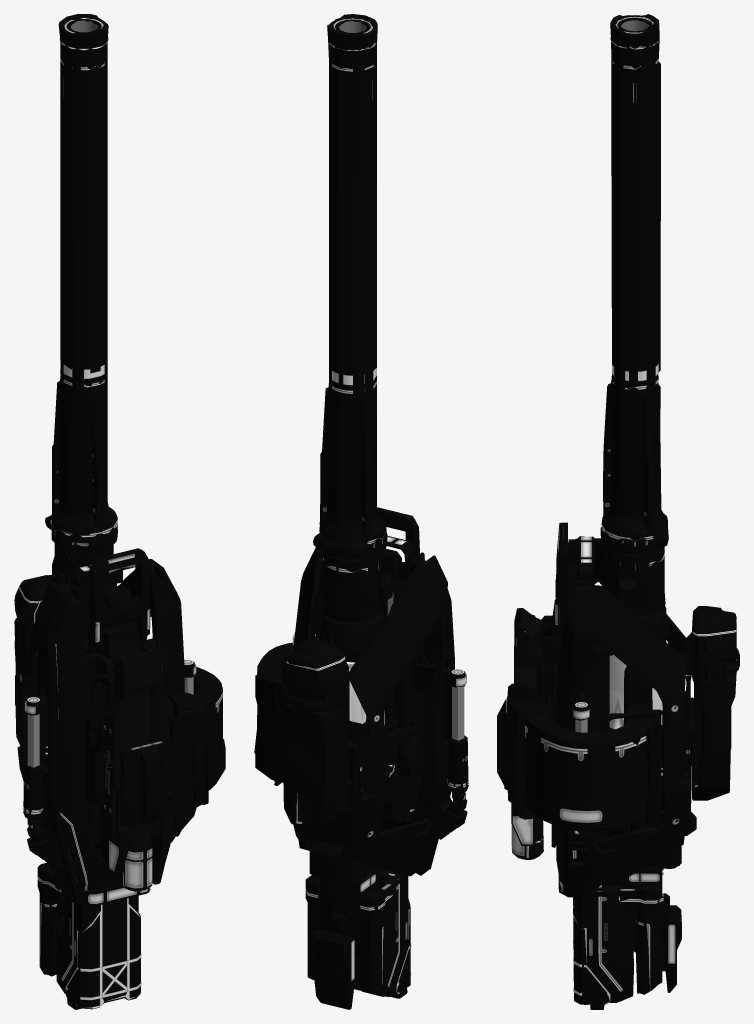
File: tarantula-gt-870-mark-2-cannon.glb
The picture shows the model from 3 angles, left to right: view 1: azimuth 30°, elevation 25°; view 2: azimuth 150°, elevation 25°; view 3: azimuth 270°, elevation 25°; orthographic projection.
Visible parts, largest first — view 1: body_bas, bar_body, gats_bal_can_s1-3_pow\gats_bal_can_s2_pow_1, gats_bal_can_s1-3_bas\gats_bal_can_s2_ven_1, gats_bal_can_s1-3_mec\gats_bal_can_s2_mec_1; view 2: body_bas, bar_body, gats_bal_can_s1-3_bas\gats_bal_can_s2_ven_1, gats_bal_can_s1-3_mec\gats_bal_can_s2_mec_1, gats_bal_can_s1-3_pow\gats_bal_can_s2_pow_1, recoil_body, spinning_chamber; view 3: body_bas, bar_body, gats_bal_can_s1-3_bas\gats_bal_can_s2_ven_1, gats_bal_can_s1-3_pow\gats_bal_can_s2_pow_1, gats_bal_can_s1-3_mec\gats_bal_can_s2_mec_1, spinning_chamber, recoil_body.
Part boxes in pixels (box(x1,y1,x2,y2)): body_bas: box(17, 18, 225, 1008); bar_body: box(45, 14, 117, 552); gats_bal_can_s1-3_pow\gats_bal_can_s2_pow_1: box(56, 883, 140, 1009); gats_bal_can_s1-3_bas\gats_bal_can_s2_ven_1: box(14, 575, 51, 745); gats_bal_can_s1-3_mec\gats_bal_can_s2_mec_1: box(52, 543, 122, 612); body_bas: box(254, 18, 468, 1009); bar_body: box(313, 14, 387, 559); gats_bal_can_s1-3_bas\gats_bal_can_s2_ven_1: box(282, 638, 350, 830); gats_bal_can_s1-3_mec\gats_bal_can_s2_mec_1: box(320, 551, 392, 622); gats_bal_can_s1-3_pow\gats_bal_can_s2_pow_1: box(354, 870, 410, 998); recoil_body: box(320, 866, 388, 960); spinning_chamber: box(346, 662, 384, 724); body_bas: box(497, 16, 736, 1004); bar_body: box(600, 14, 668, 554); gats_bal_can_s1-3_bas\gats_bal_can_s2_ven_1: box(683, 606, 739, 800); gats_bal_can_s1-3_pow\gats_bal_can_s2_pow_1: box(573, 885, 634, 1009); gats_bal_can_s1-3_mec\gats_bal_can_s2_mec_1: box(605, 547, 665, 616); spinning_chamber: box(609, 640, 668, 729); recoil_body: box(605, 820, 669, 952).
Bounding box in the file's own units: 0.5506 × 2.57 × 0.5814.
Materials: 29 (8 with a texture image).
